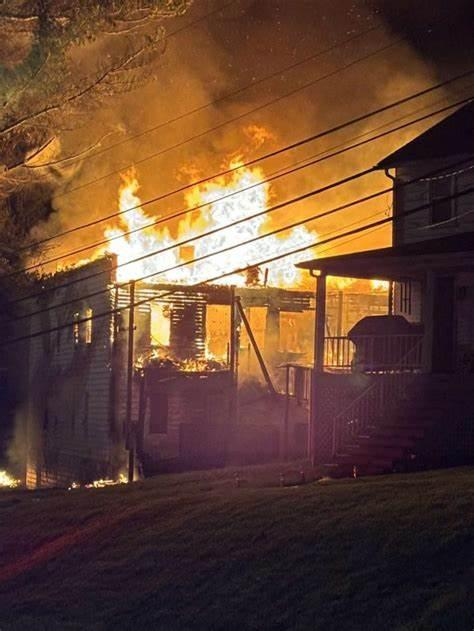Fire: (99, 150, 316, 285), (121, 293, 217, 371), (68, 474, 130, 489), (362, 273, 399, 298), (1, 468, 27, 491)
